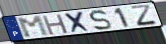1: (114, 7, 132, 29)
H: (41, 13, 71, 37)
M: (15, 15, 52, 39)
S: (88, 9, 114, 32)
X: (63, 11, 93, 35)
Z: (129, 4, 160, 28)
